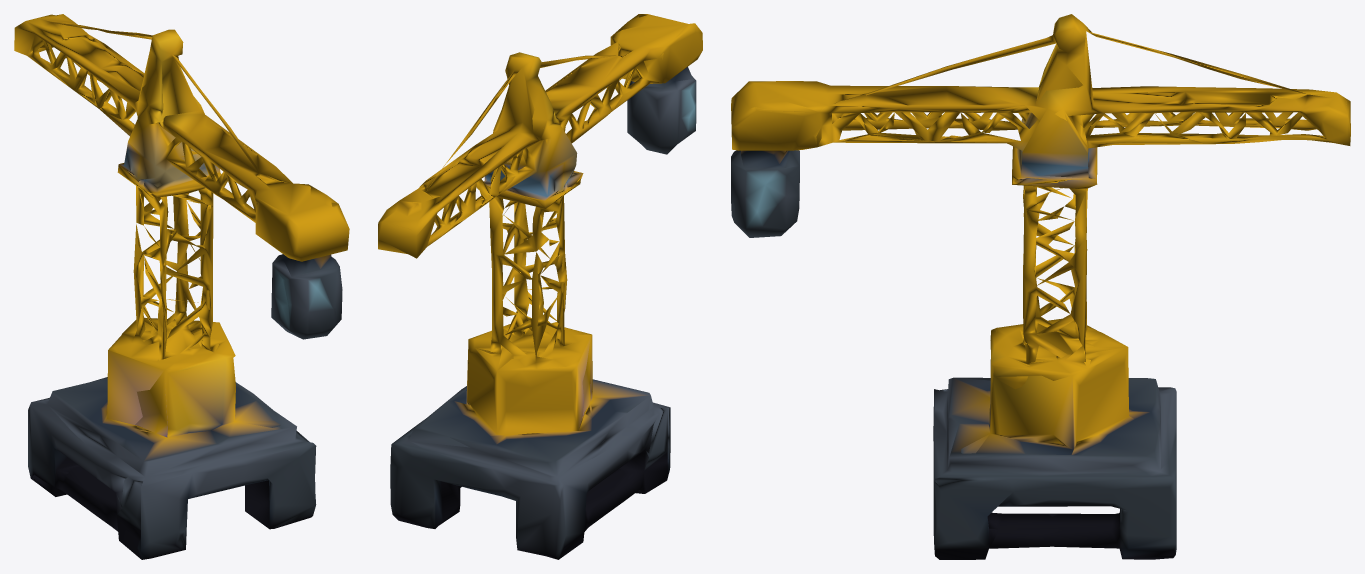
File: gen3d-crane-operator-lod0.glb
The picture shows the model from 3 angles, left to right: view 1: azimuth 30°, elevation 25°; view 2: azimuth 150°, elevation 25°; view 3: azimuth 270°, elevation 25°; orthographic projection. The views are drawn at different scales.
Visible parts, largest first — view 1: part_0; view 2: part_0; view 3: part_0.
Part boxes in pixels (x1,y1,x2,y2): part_0: (14, 14, 349, 559); part_0: (378, 14, 702, 559); part_0: (731, 14, 1350, 559).
Size of the model in its own units: 0.3994 by 0.9992 by 1.13.
